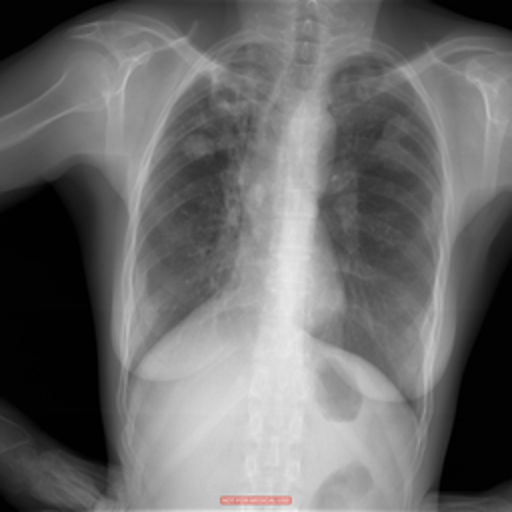TB: (160, 50, 269, 163)
